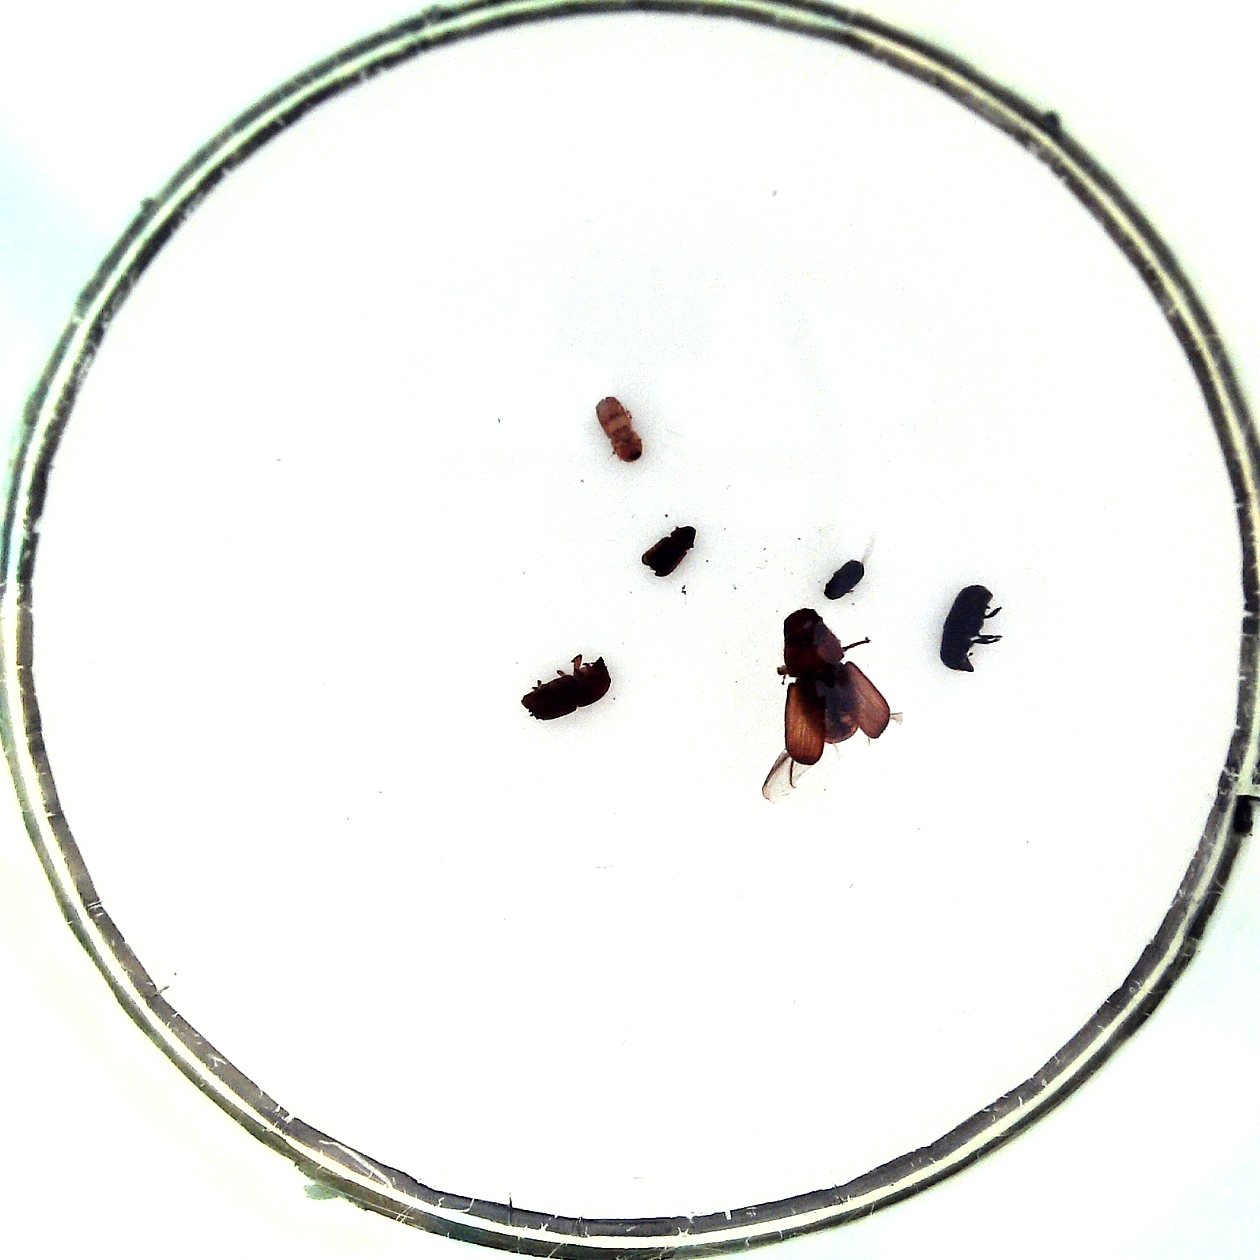Leconte: (782, 608, 860, 745)
acuminatus: (824, 560, 864, 599)
armandi: (940, 585, 993, 673)
coleoptera: (597, 397, 642, 463), (640, 526, 697, 577)
linnaeus: (522, 657, 612, 720)
